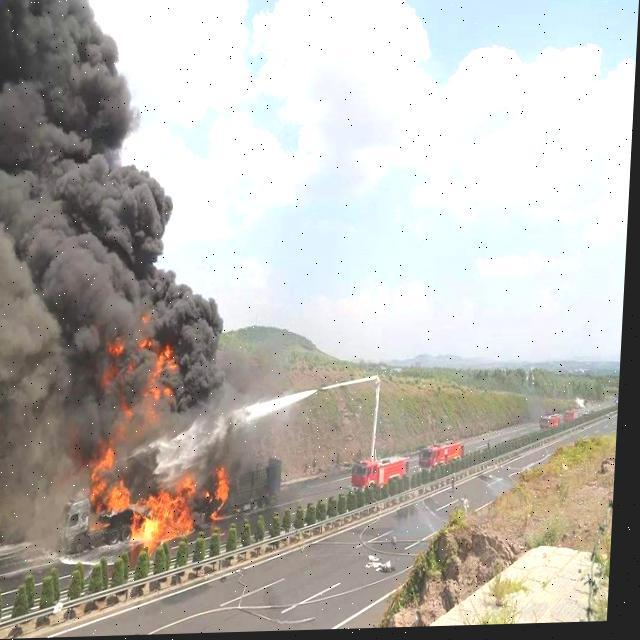Fire: (96, 306, 242, 549)
